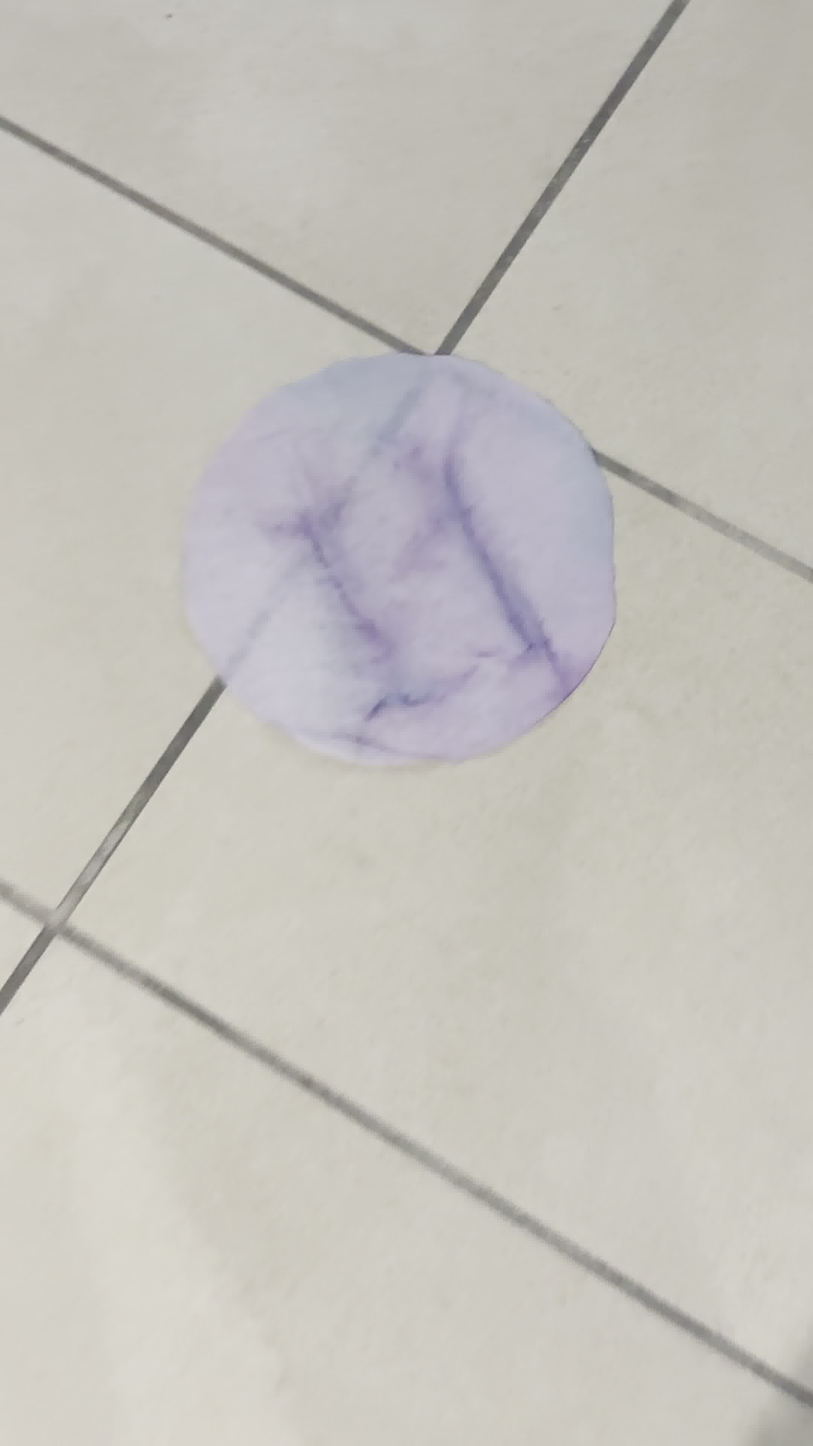Target: (180, 352, 621, 771)
